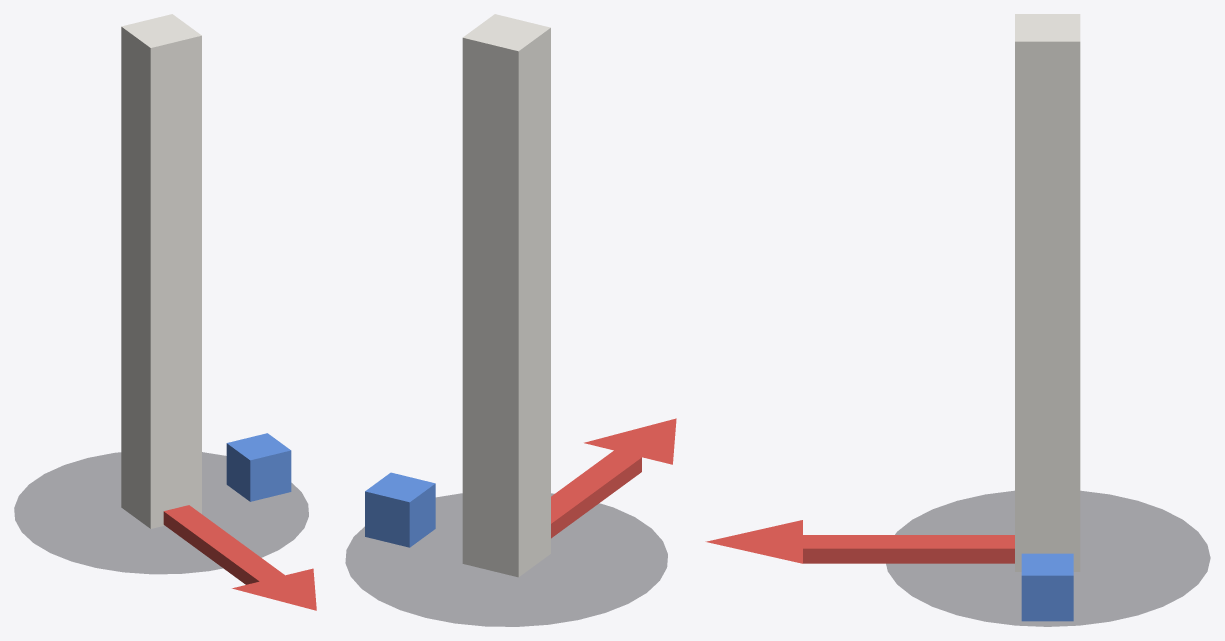
3 views of the same model, side by side, from view 1: azimuth 30°, elevation 25°; view 2: azimuth 150°, elevation 25°; view 3: azimuth 270°, elevation 25° (orthographic). The views are drawn at different scales.
Parts seen in each view (by area): view 1: post, footprint, left_marker, arrow_shaft, arrow_head; view 2: post, footprint, left_marker, arrow_shaft, arrow_head; view 3: post, footprint, arrow_shaft, left_marker, arrow_head.
Boxes of the visible parts, box(x1,y1,x2,y2) form: post: box(121, 14, 201, 528); footprint: box(14, 452, 308, 574); left_marker: box(226, 433, 291, 501); arrow_shaft: box(163, 505, 284, 584); arrow_head: box(232, 568, 316, 610); post: box(462, 14, 550, 577); footprint: box(345, 493, 667, 626); left_marker: box(365, 472, 435, 547); arrow_shaft: box(551, 450, 641, 538); arrow_head: box(584, 418, 676, 464); post: box(1015, 14, 1080, 571); footprint: box(886, 490, 1210, 626); arrow_shaft: box(803, 535, 1014, 563); left_marker: box(1021, 553, 1073, 621); arrow_head: box(705, 520, 802, 563).
Bounding box in the file's own units: 1 × 1.8 × 1.55.
